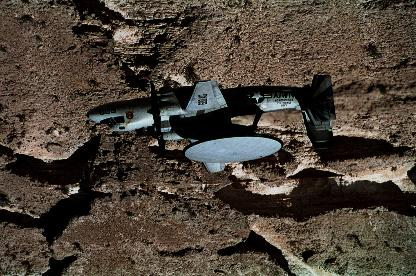C5: (87, 75, 337, 173)
